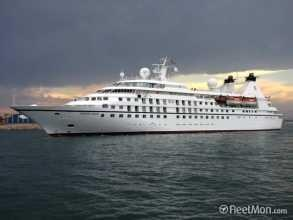youlun: (13, 57, 279, 137)
